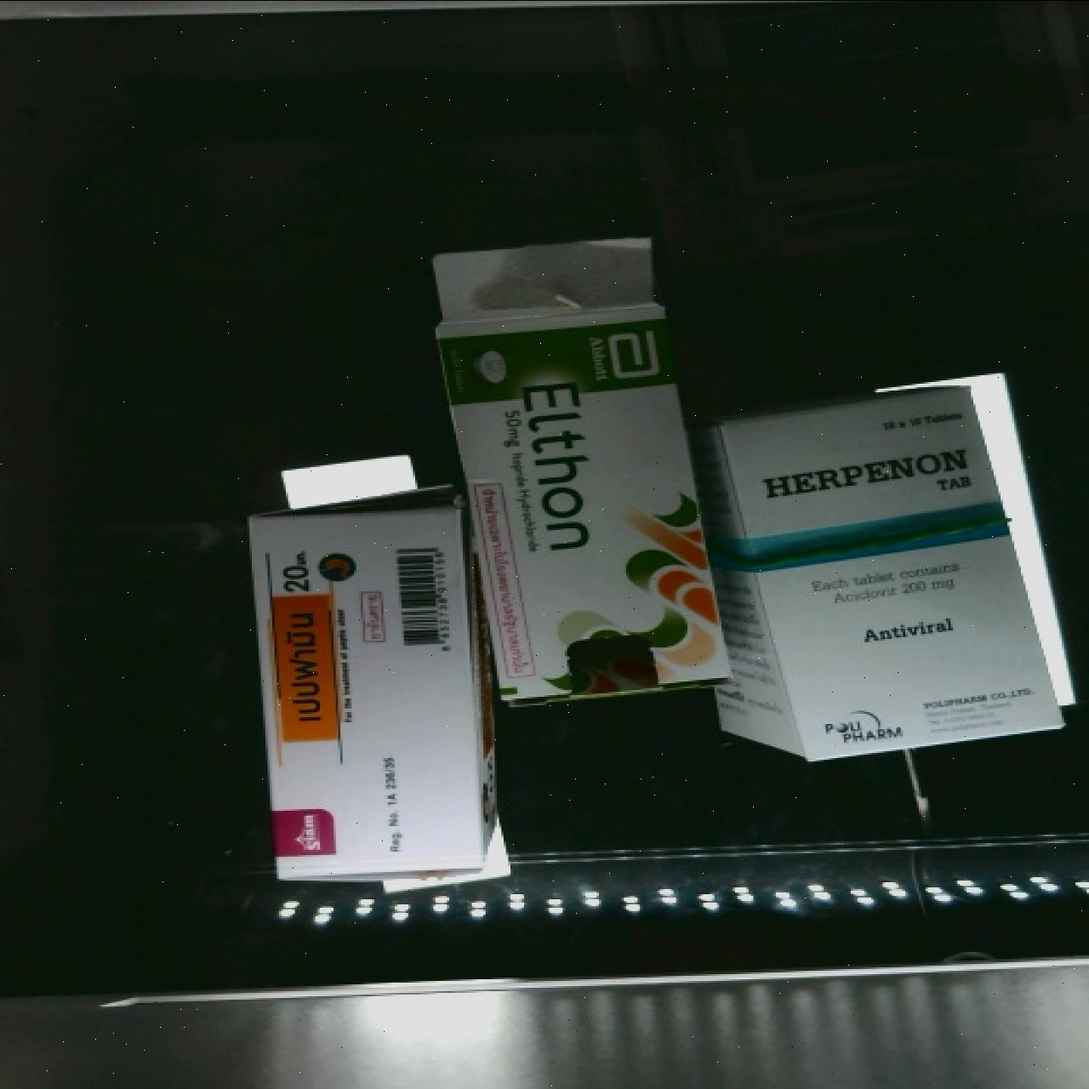medicine_label_obb: (501, 360, 628, 582), (731, 421, 997, 526), (263, 540, 341, 754)
